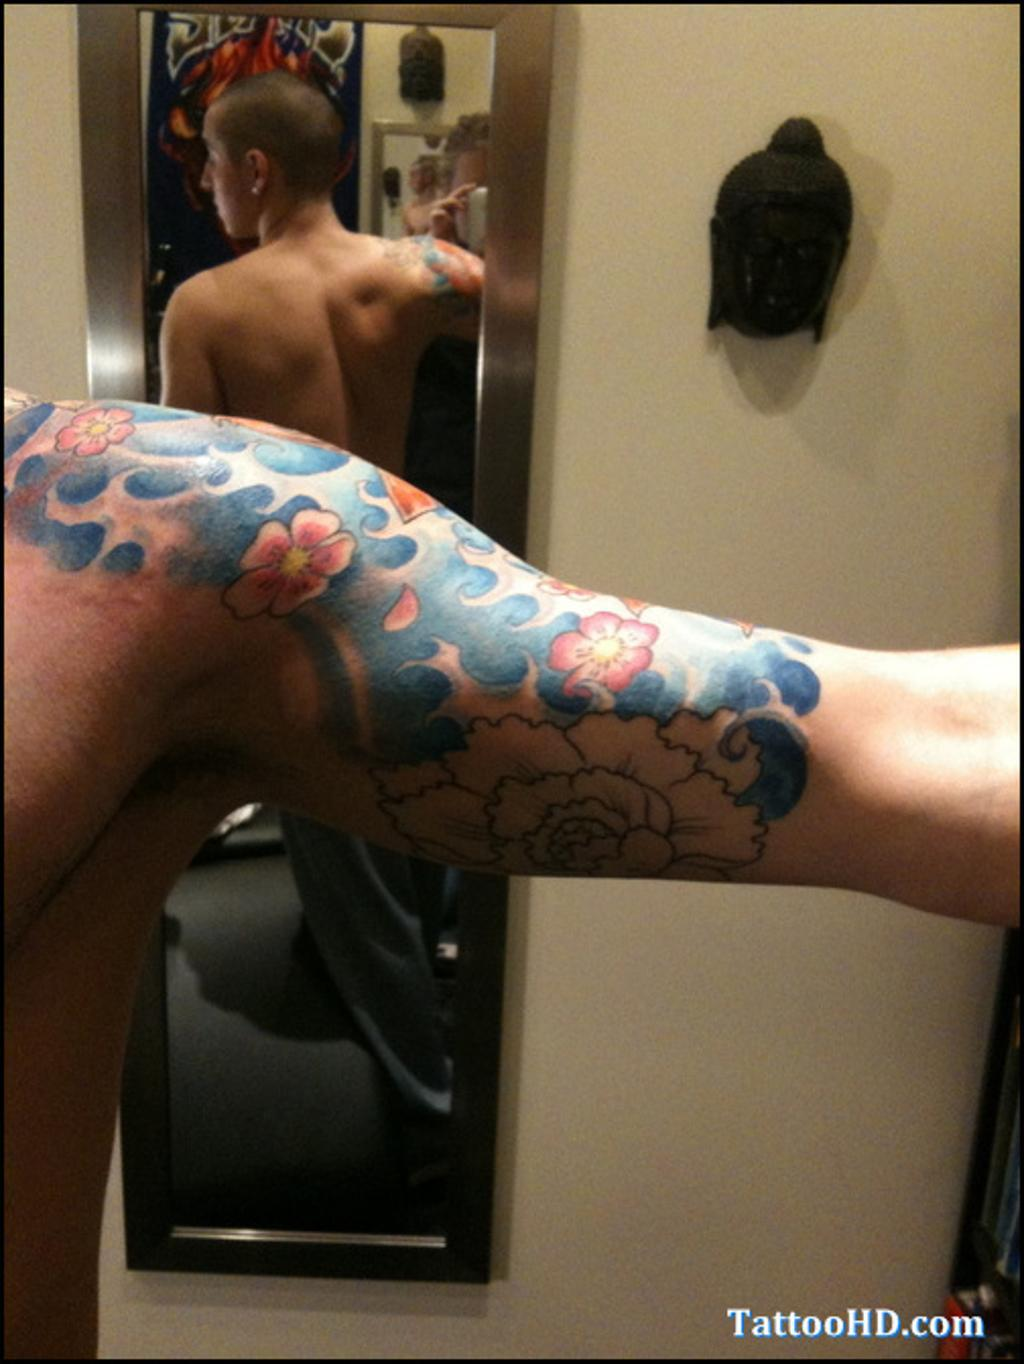face: (190, 115, 262, 251)
